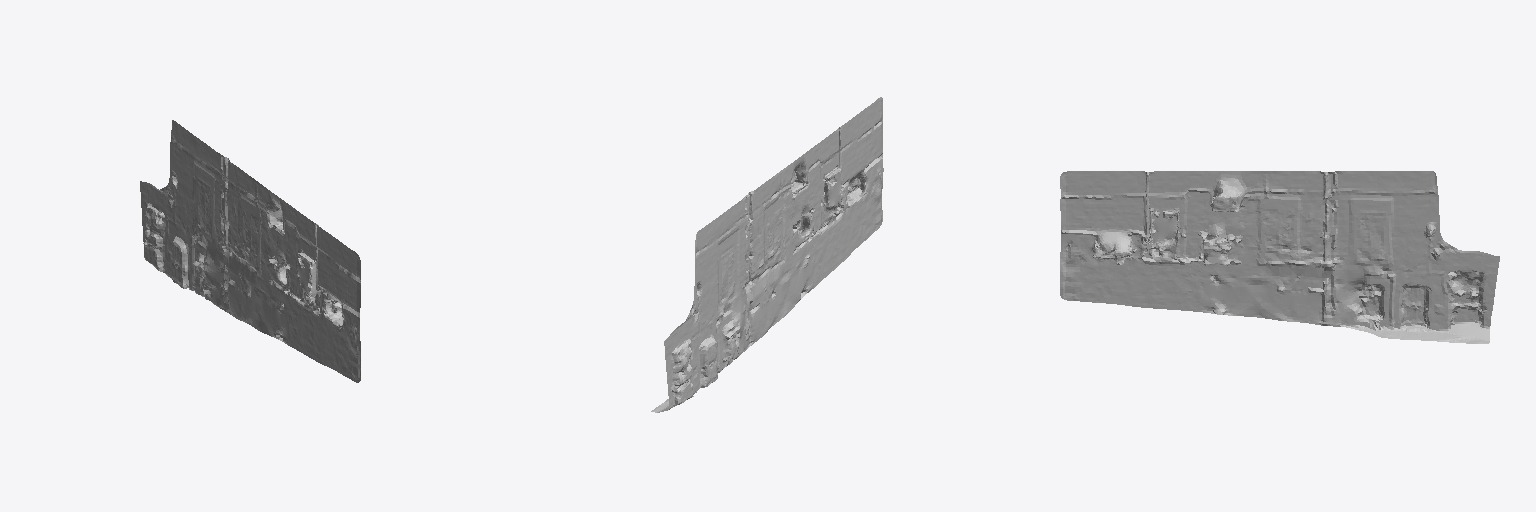
Rendered from PrototypeWindows.obj.
3 views of the same model, side by side, from view 1: azimuth 30°, elevation 25°; view 2: azimuth 150°, elevation 25°; view 3: azimuth 270°, elevation 25° (orthographic).
Visible parts, largest first — view 1: Group55270; view 2: Group55270; view 3: Group55270.
Boxes of the visible parts, box(x1,y1,x2,y2) form: Group55270: box(140, 120, 360, 382); Group55270: box(651, 97, 883, 412); Group55270: box(1060, 171, 1499, 343).
Size of the model in its own units: 0.0816 by 0.5045 by 1.23.